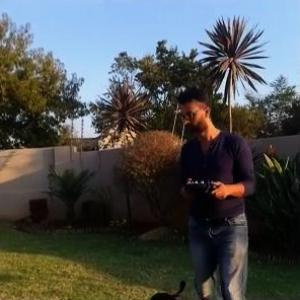follow: (174, 80, 256, 299)
